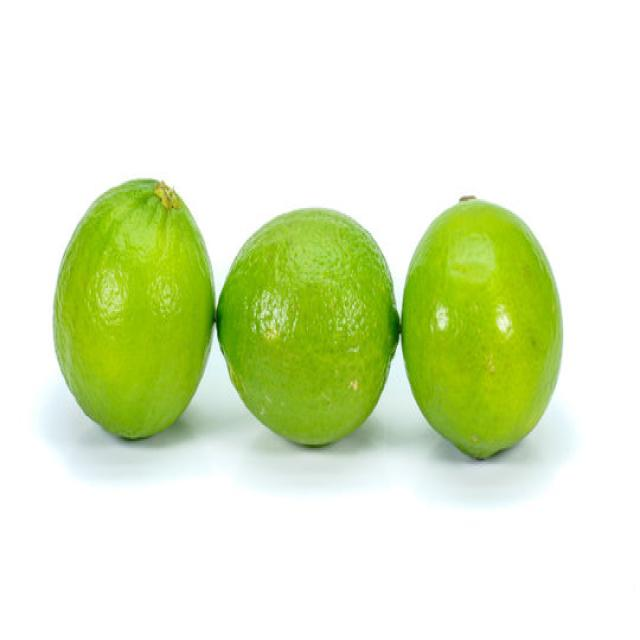Lemon: (214, 204, 400, 446), (51, 176, 216, 439), (399, 194, 563, 458)
